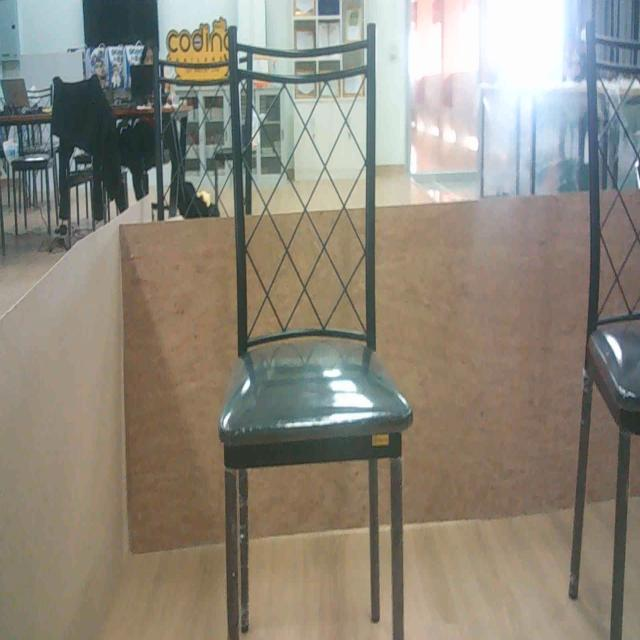emtpy: (222, 22, 426, 640), (592, 18, 640, 640)
